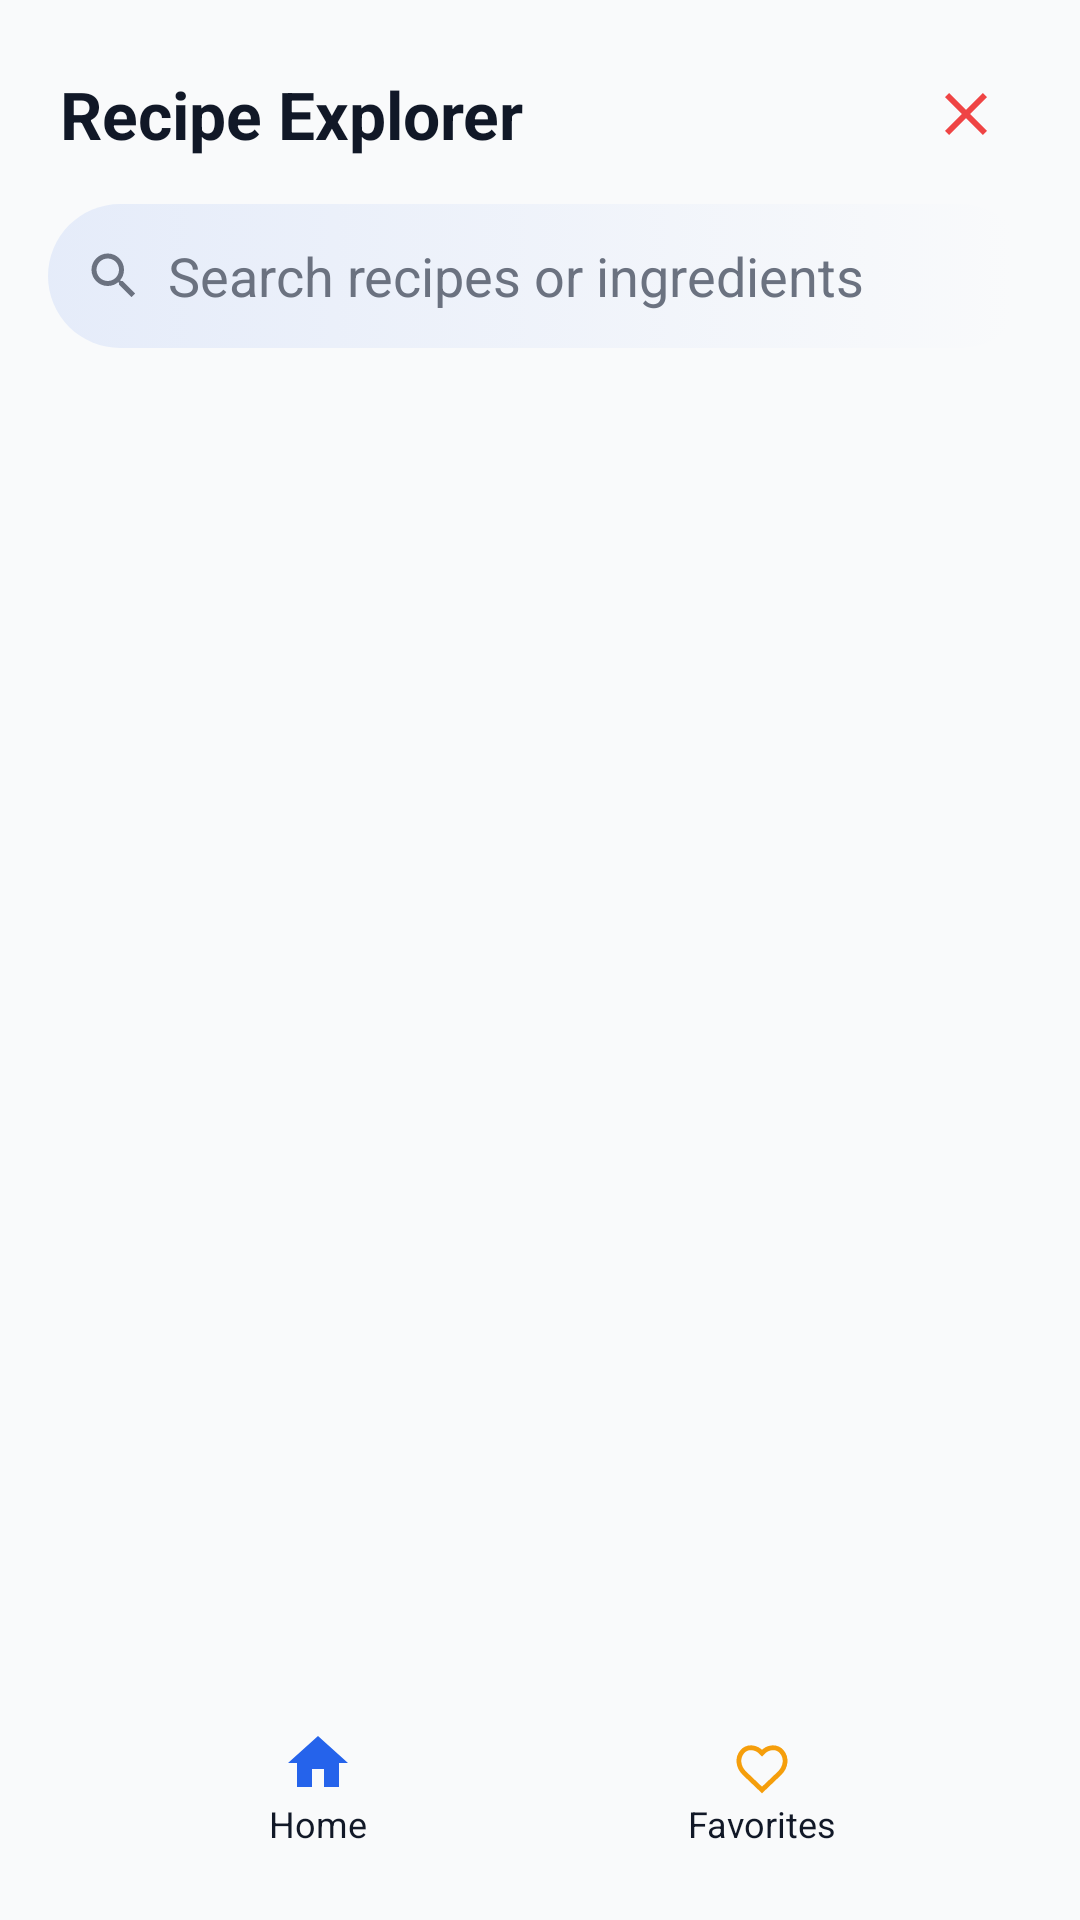

Where to tap for icons on this 1080px x 1920px app screen, as [x,y]:
Clear search: [966,114]
